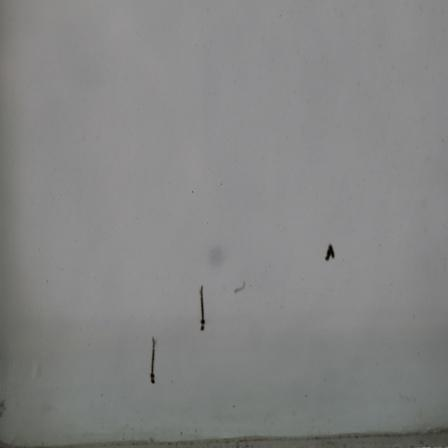Jentik-Nyamuk: (193, 281, 211, 336), (145, 336, 160, 385), (320, 243, 336, 268)
